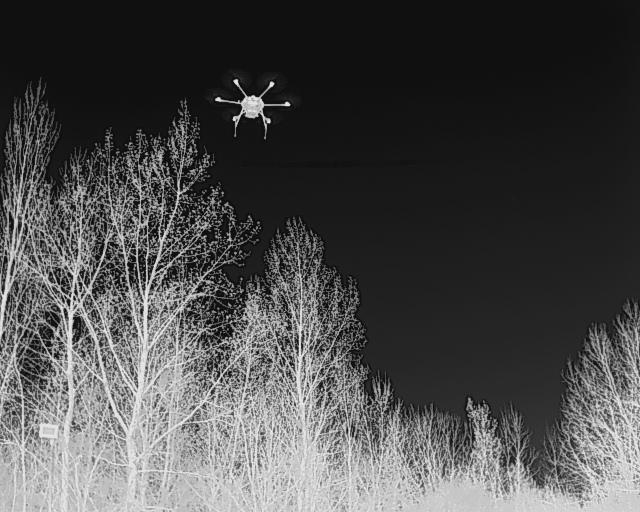drone: (200, 56, 306, 146)
